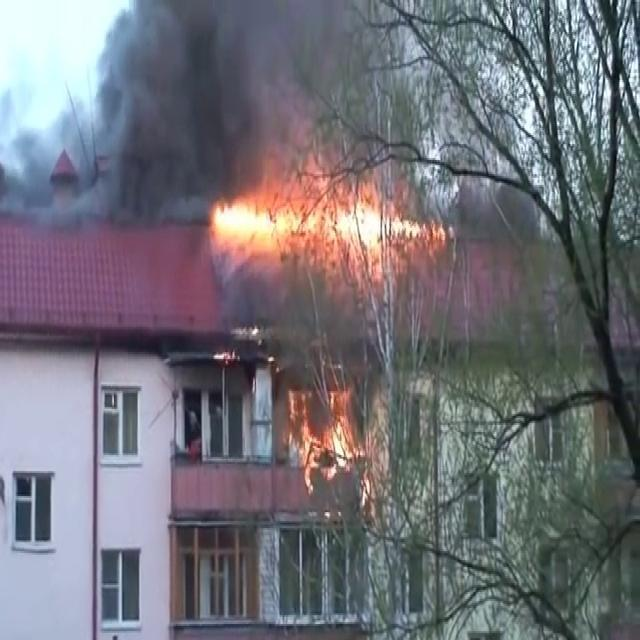Fire: (210, 167, 442, 267), (282, 371, 370, 488)
Smoke: (5, 0, 362, 222)
